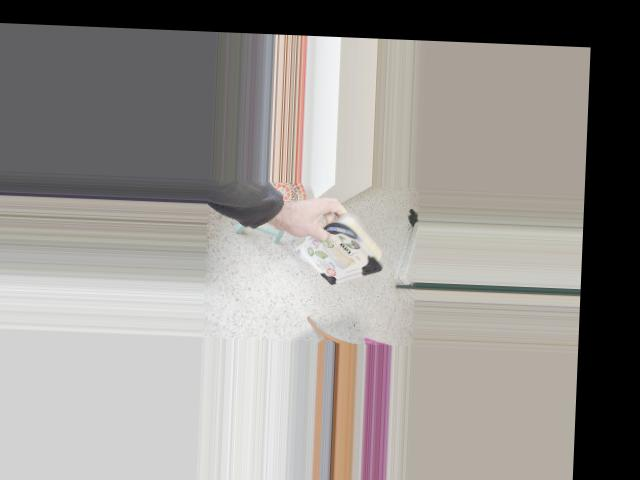cheese: (303, 189, 386, 297)
